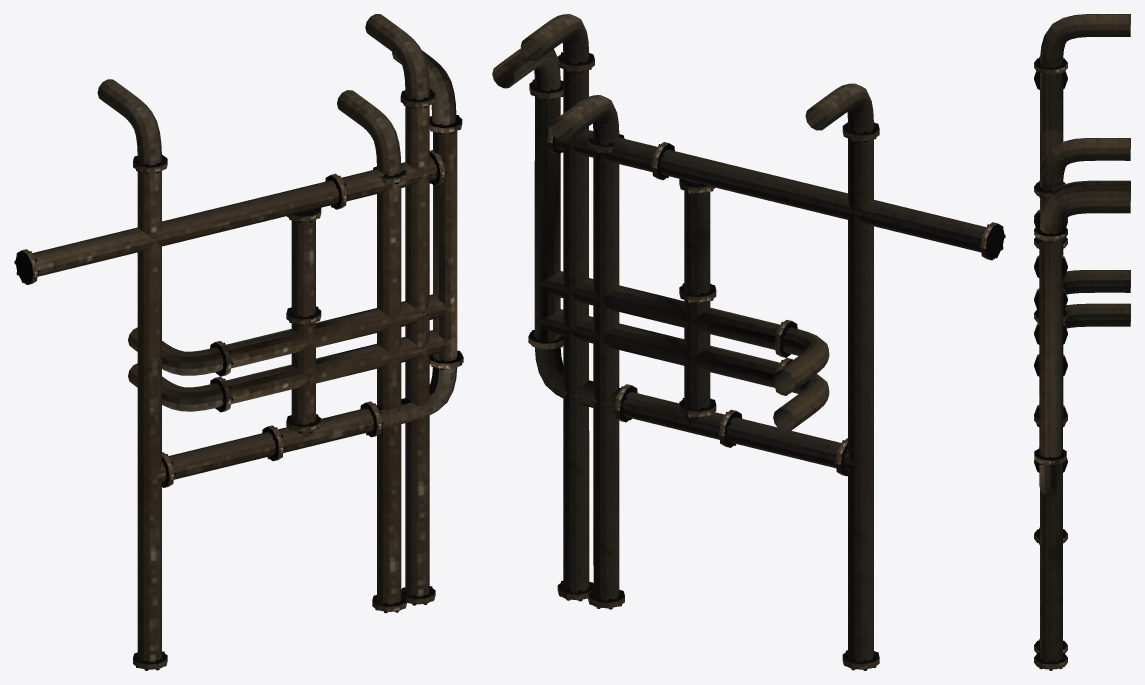
Rendered from Pipes Pattern 2.fbx.
The picture shows the model from 3 angles, left to right: view 1: azimuth 30°, elevation 25°; view 2: azimuth 150°, elevation 25°; view 3: azimuth 270°, elevation 25°; orthographic projection. The views are drawn at different scales.
Parts seen in each view (by area): view 1: Pipe Pattern 2; view 2: Pipe Pattern 2; view 3: Pipe Pattern 2.
Boxes of the visible parts, box(x1,y1,x2,y2) form: Pipe Pattern 2: box(14, 14, 463, 670); Pipe Pattern 2: box(492, 14, 1005, 670); Pipe Pattern 2: box(1034, 14, 1130, 670).
Size of the model in its own units: 357 by 432 by 72.2.
